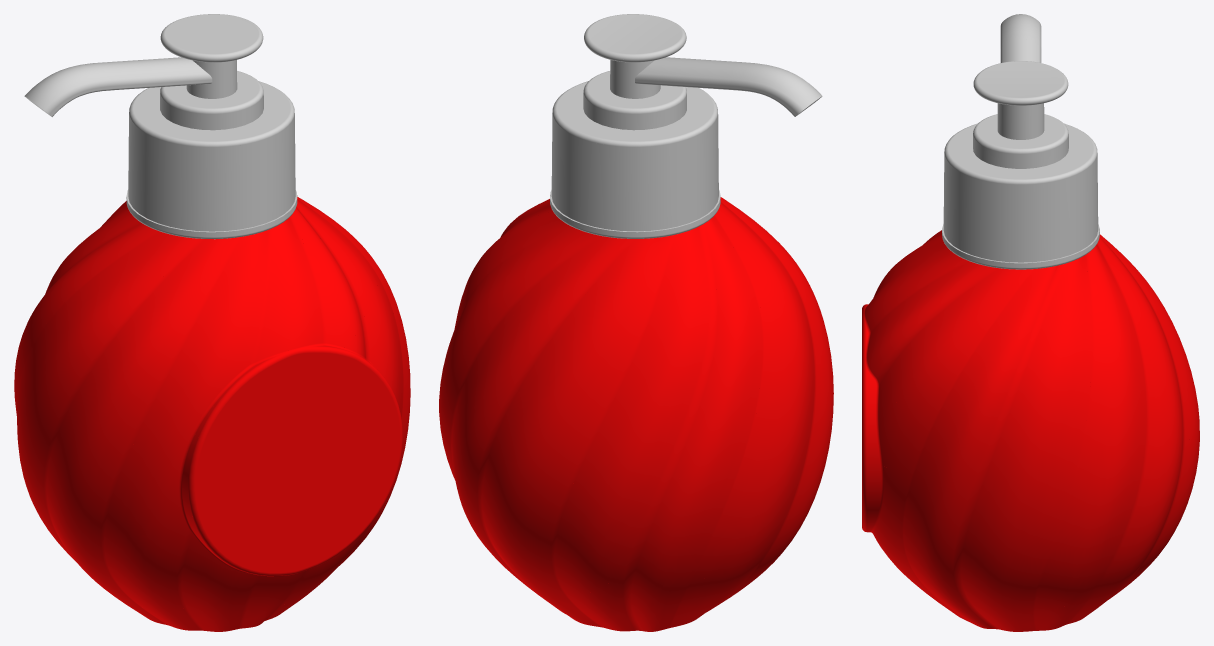
3 views of the same model, side by side, from view 1: azimuth 30°, elevation 25°; view 2: azimuth 150°, elevation 25°; view 3: azimuth 270°, elevation 25° (orthographic). The views are drawn at different scales.
Parts seen in each view (by area): view 1: Bottle_DSa; view 2: Bottle_DSa; view 3: Bottle_DSa.
Part boxes in pixels (x1=…): Bottle_DSa: x1=14, y1=14, x2=410, y2=631; Bottle_DSa: x1=439, y1=14, x2=833, y2=631; Bottle_DSa: x1=862, y1=14, x2=1199, y2=631.
Bounding box in the file's own units: 0.046 × 0.0709 × 0.0415.
